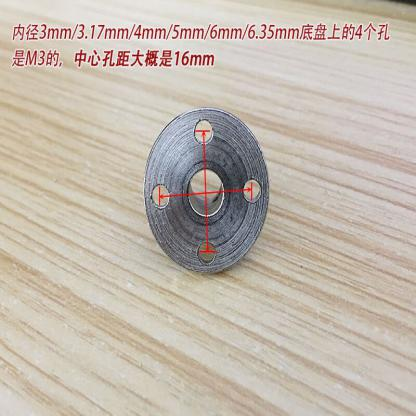FOD: (142, 103, 272, 282)
